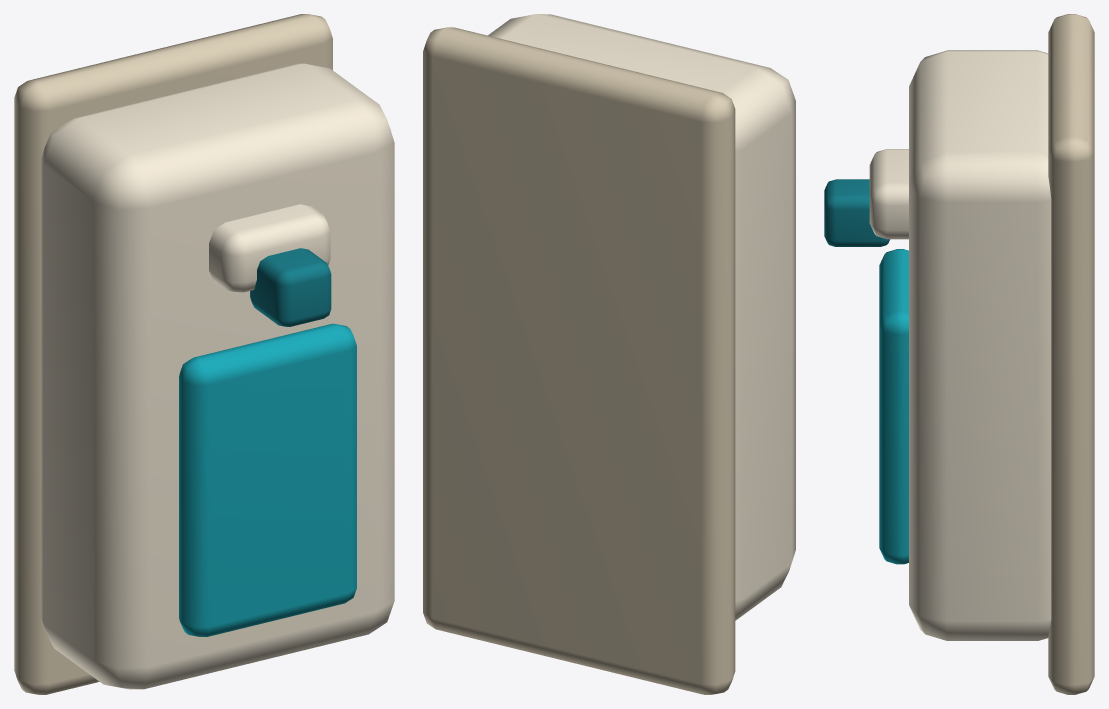
Rendered from Reception_Wall_Sanitizer.glb.
3 renders of one model, left to right at view 1: azimuth 30°, elevation 25°; view 2: azimuth 150°, elevation 25°; view 3: azimuth 270°, elevation 25°, orthographic. The views are drawn at different scales.
Visible parts, largest first — view 1: Reception_Wall_Sanitizer__Visual; view 2: Reception_Wall_Sanitizer__Visual; view 3: Reception_Wall_Sanitizer__Visual.
Boxes of the visible parts, x1,y1,x2,y2 form: Reception_Wall_Sanitizer__Visual: (14, 14, 394, 694); Reception_Wall_Sanitizer__Visual: (423, 14, 795, 694); Reception_Wall_Sanitizer__Visual: (824, 14, 1094, 694).
Size of the model in its own units: 0.17 by 0.32 by 0.1405.
Materials: 1 (1 with a texture image).
